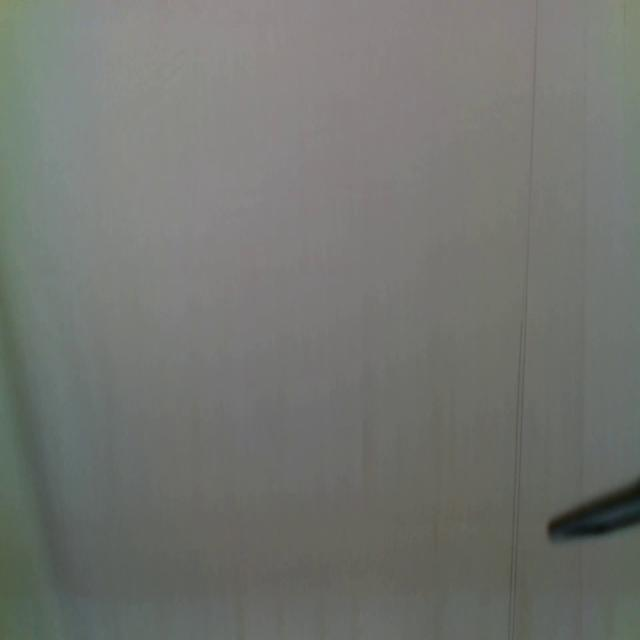crease: (508, 0, 539, 636)
